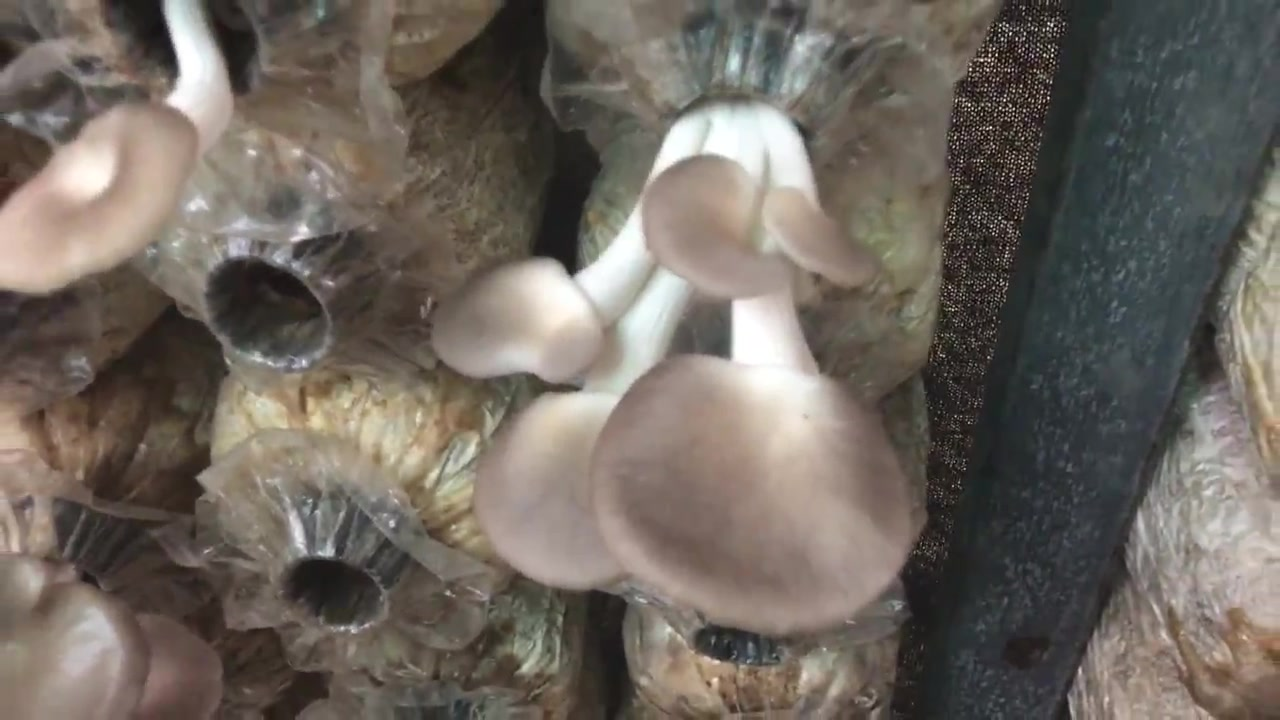nam: (430, 5, 915, 632), (1, 1, 266, 293), (1, 553, 224, 719)
